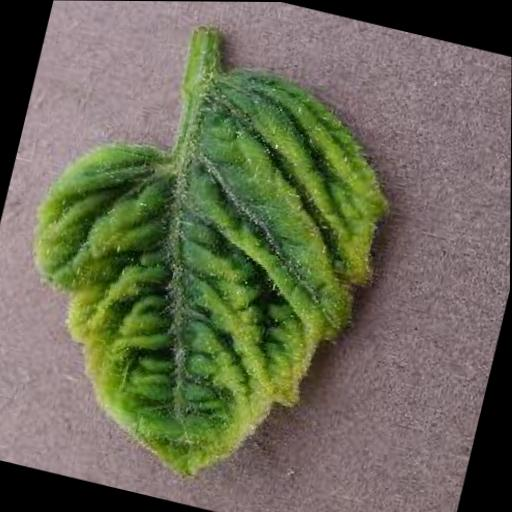Yellow Leaf Curl Virus: (0, 21, 422, 512)
